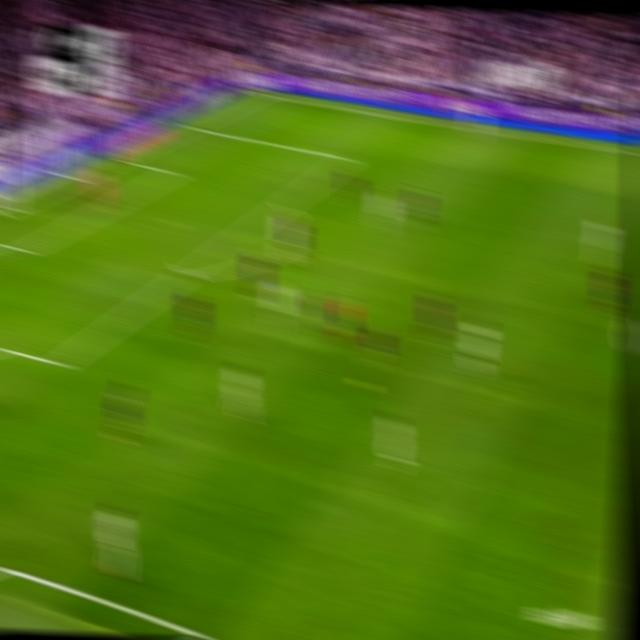bigarea_bottom_inner: (49, 351, 70, 375)
bigarea_top_outter: (181, 118, 199, 133)
bottom_arc_area_intersection: (176, 263, 197, 283)
corner: (249, 87, 267, 99)
smallarea_bottom_inner: (16, 239, 35, 260)
smallarea_top_inner: (164, 165, 180, 178)
smallarea_top_outter: (113, 152, 129, 164)
top_arc_area_intersection: (275, 194, 294, 212)
